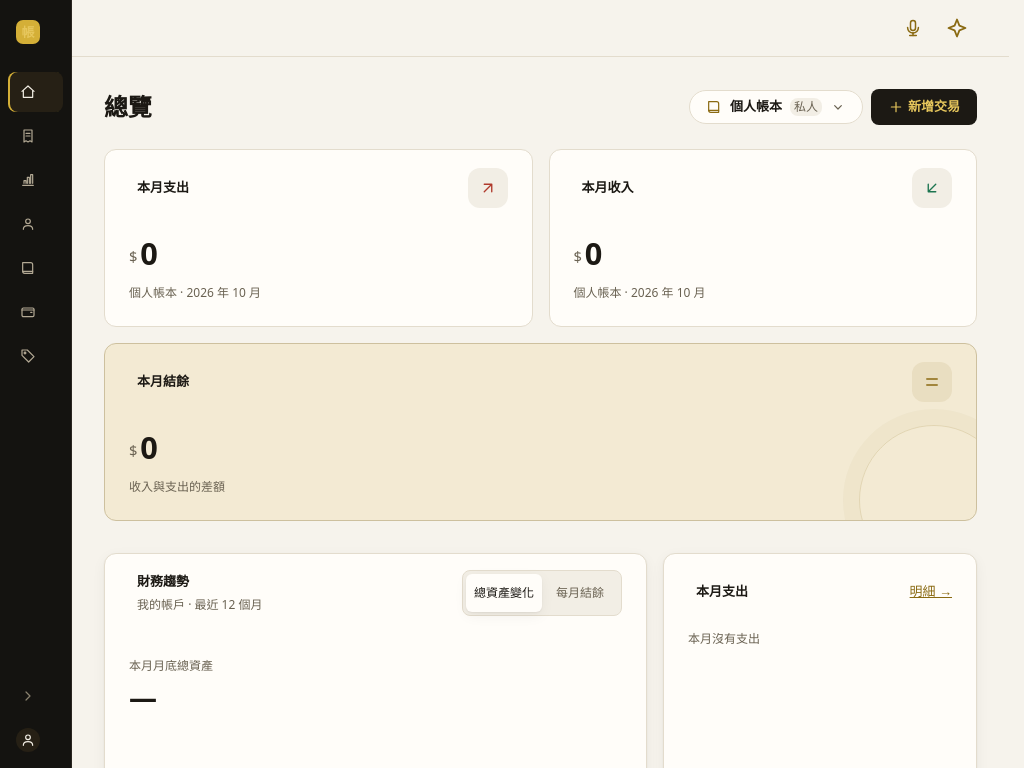
Ledger switcher › switches which ledger the home page records into
The image size is (1024, 768).
Click the button "個人帳本 私人": [776, 107] box x1=689 y1=90 x2=863 y2=124
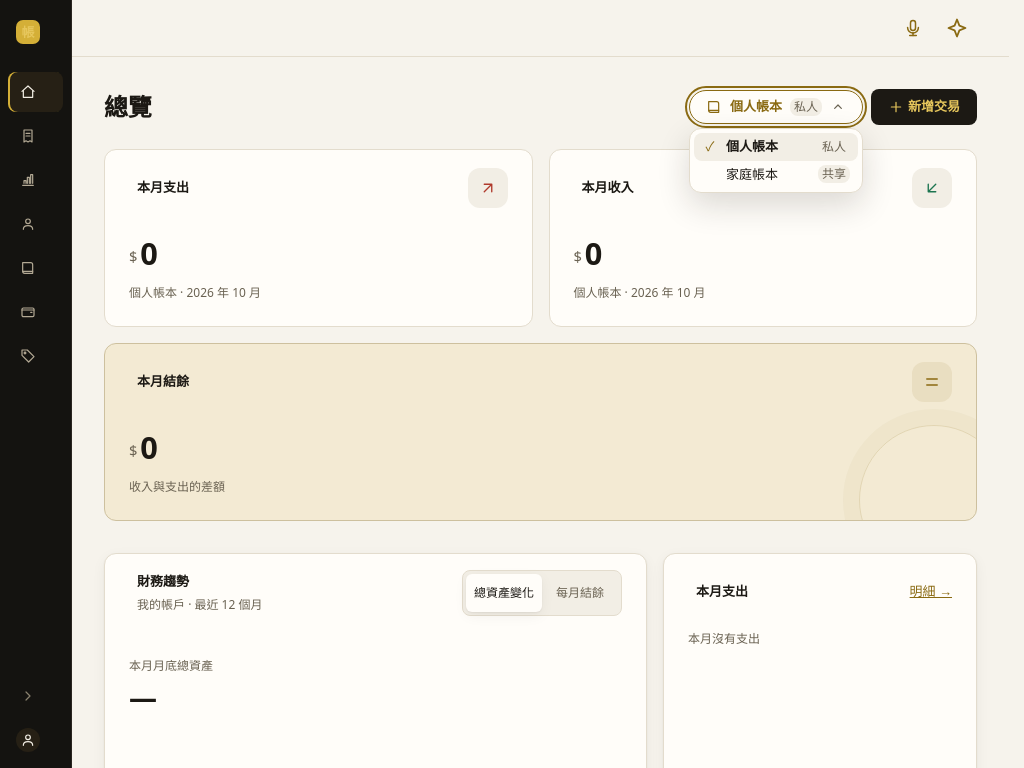
Click the option "家庭帳本 共享": [752, 174] box x1=726 y1=164 x2=850 y2=183
(page scrolled)
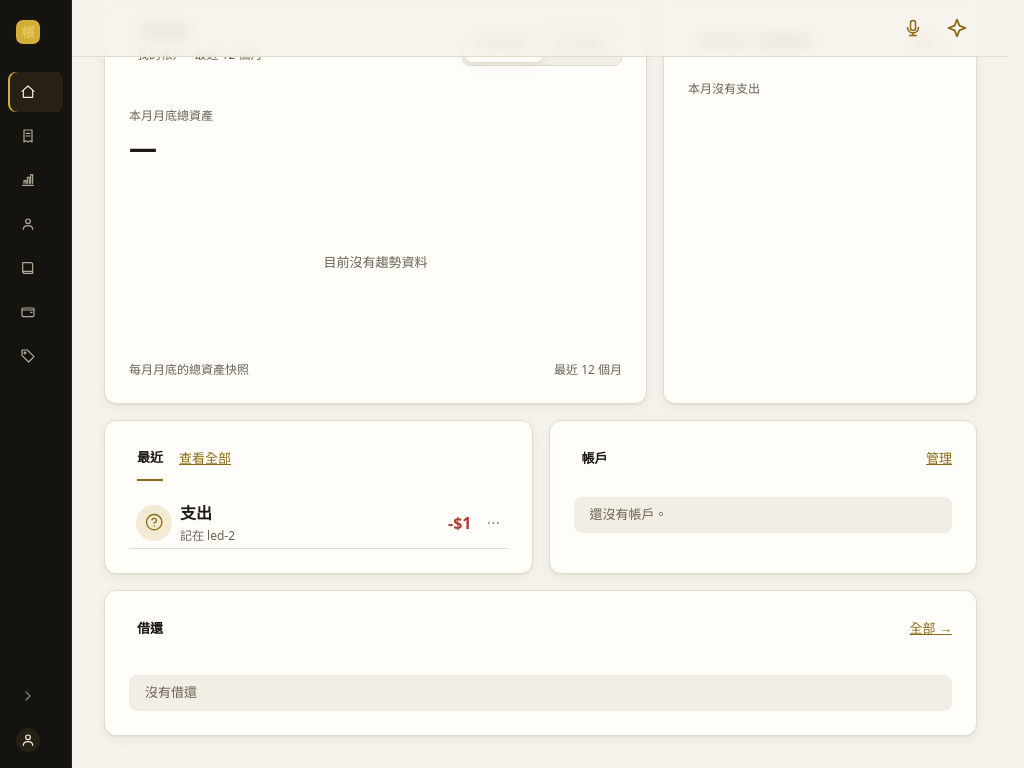
Result: the text "記在 led-2" is shown at x1=180 y1=527 x2=235 y2=545
